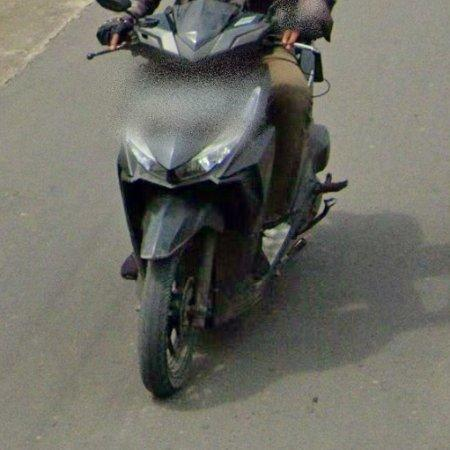motorcycles: (95, 0, 344, 402)
